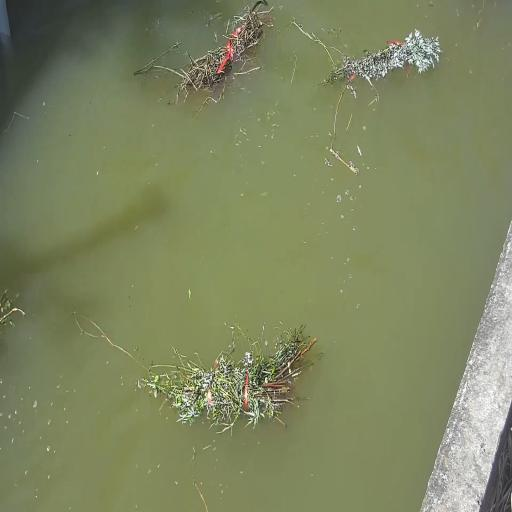twig: (136, 330, 322, 426), (320, 8, 448, 97), (162, 0, 270, 99), (0, 284, 30, 340)
